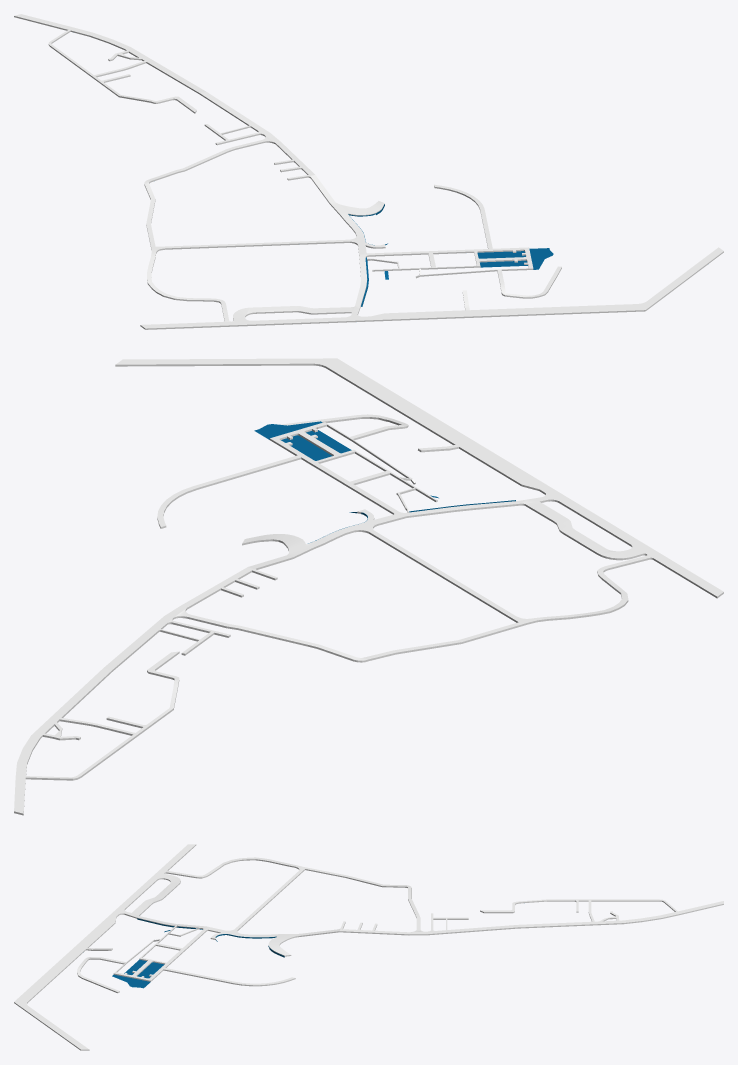
Rendered from road.glb.
3 renders of one model, top to bottom at view 1: azimuth 30°, elevation 25°; view 2: azimuth 150°, elevation 25°; view 3: azimuth 270°, elevation 25°, orthographic. The views are drawn at different scales.
Visible parts, largest first — view 1: 道路001, 道路; view 2: 道路001, 道路; view 3: 道路001, 道路.
Part boxes in pixels (x1=…): 道路001: x1=14, y1=14, x2=723, y2=329; 道路: x1=348, y1=204, x2=553, y2=306; 道路001: x1=14, y1=358, x2=723, y2=815; 道路: x1=254, y1=421, x2=515, y2=543; 道路001: x1=14, y1=844, x2=723, y2=1050; 道路: x1=112, y1=918, x2=284, y2=988.
Bounding box in the file's own units: 781 × 46.04 × 1140.
